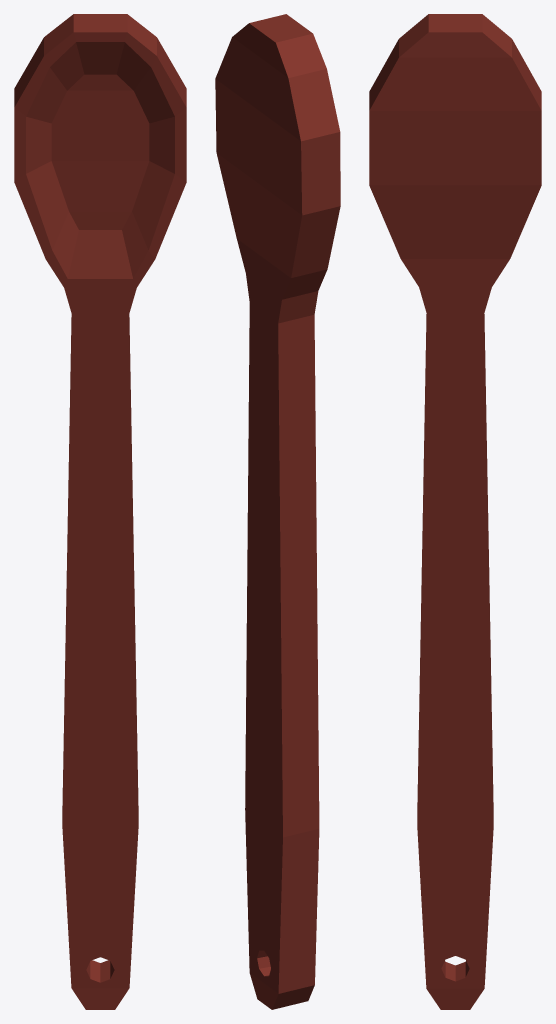
The model's file is łyszka.fbx.
The picture shows the model from 3 angles, left to right: view 1: azimuth 90°, elevation 25°; view 2: azimuth 210°, elevation 25°; view 3: azimuth 270°, elevation 25°; orthographic projection.
Parts seen in each view (by area): view 1: WoodenSpoon; view 2: WoodenSpoon; view 3: WoodenSpoon.
Boxes of the visible parts, x1,y1,x2,y2 form: WoodenSpoon: (14,14,186,1009); WoodenSpoon: (215,14,340,1009); WoodenSpoon: (369,14,541,1009).
Bounding box in the file's own units: 1.25 × 27.03 × 4.32.
